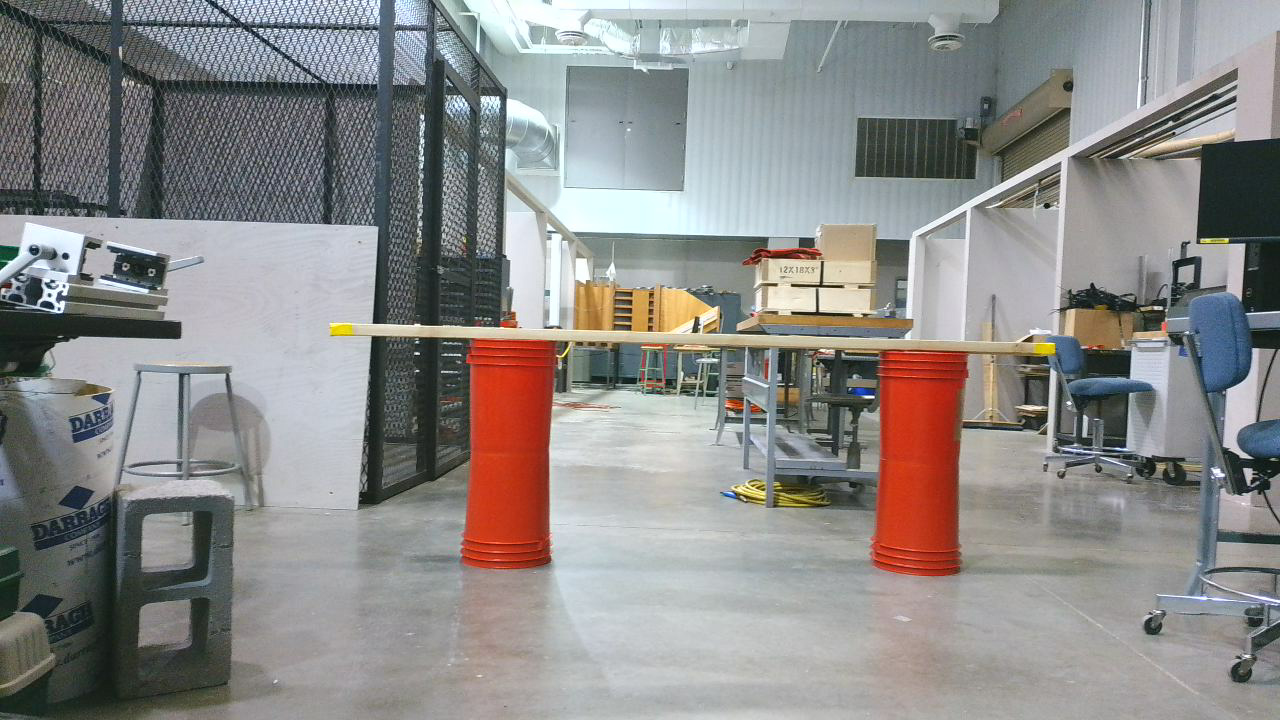red_bucket_arch: (331, 325, 1066, 583)
